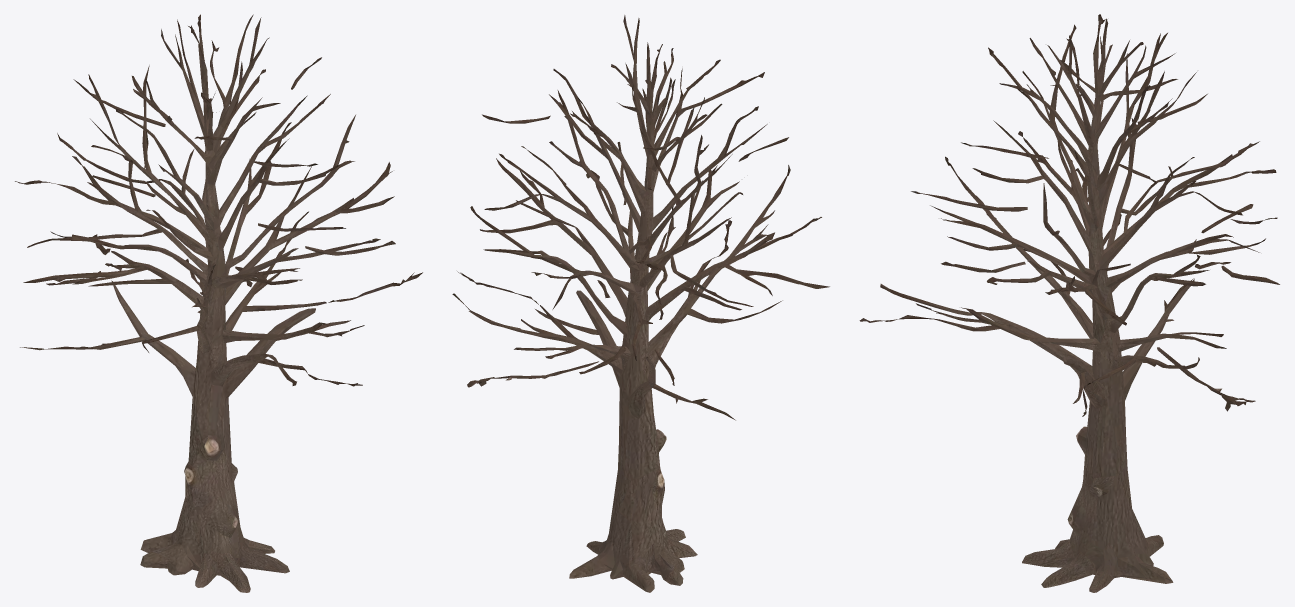
File: tree_green.glb
3 renders of one model, left to right at view 1: azimuth 30°, elevation 25°; view 2: azimuth 150°, elevation 25°; view 3: azimuth 270°, elevation 25°, orthographic. The views are drawn at different scales.
Parts seen in each view (by area): view 1: Mesh_0; view 2: Mesh_0; view 3: Mesh_0.
Boxes of the visible parts, x1,y1,x2,y2 form: Mesh_0: (15, 14, 422, 592); Mesh_0: (452, 15, 829, 592); Mesh_0: (859, 14, 1279, 592).
Size of the model in its own units: 1.29 by 1.72 by 1.2.
Materials: 1 (1 with a texture image).
